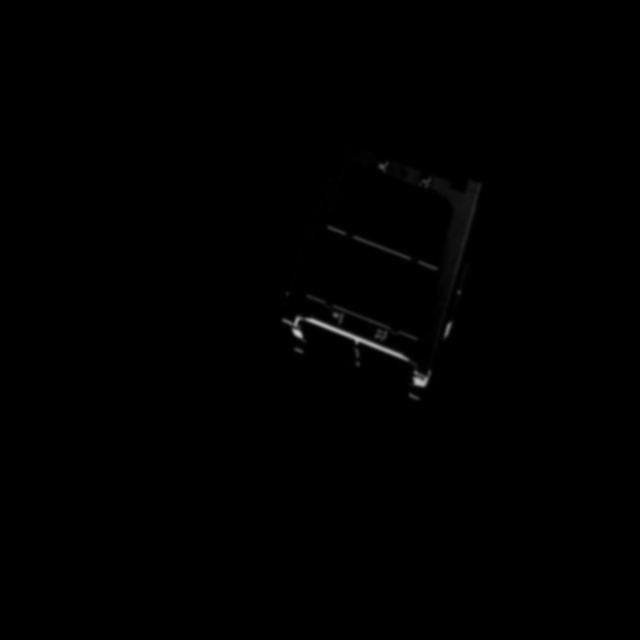satellite: (274, 132, 486, 407)
